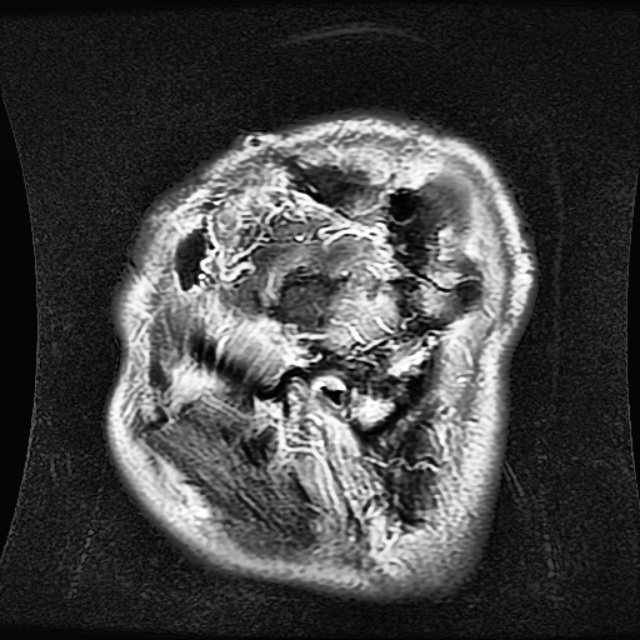Meningioma: (379, 180, 469, 319)
